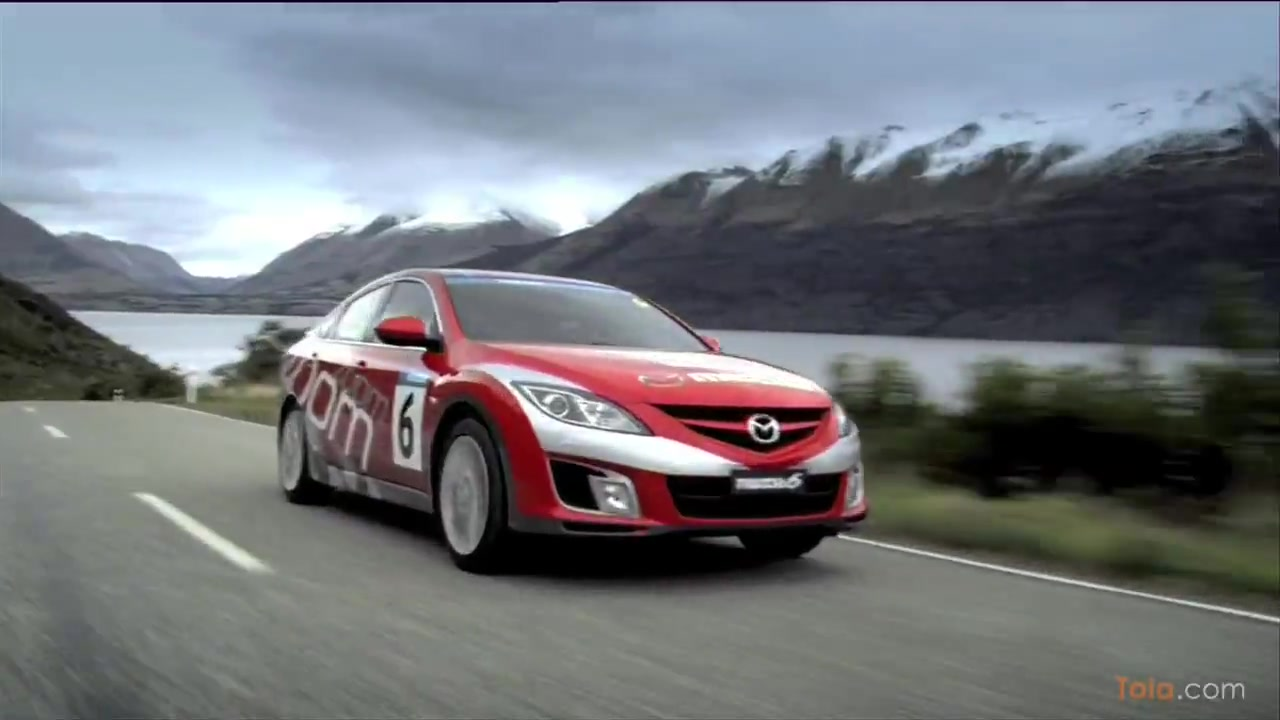car: (273, 258, 874, 579)
